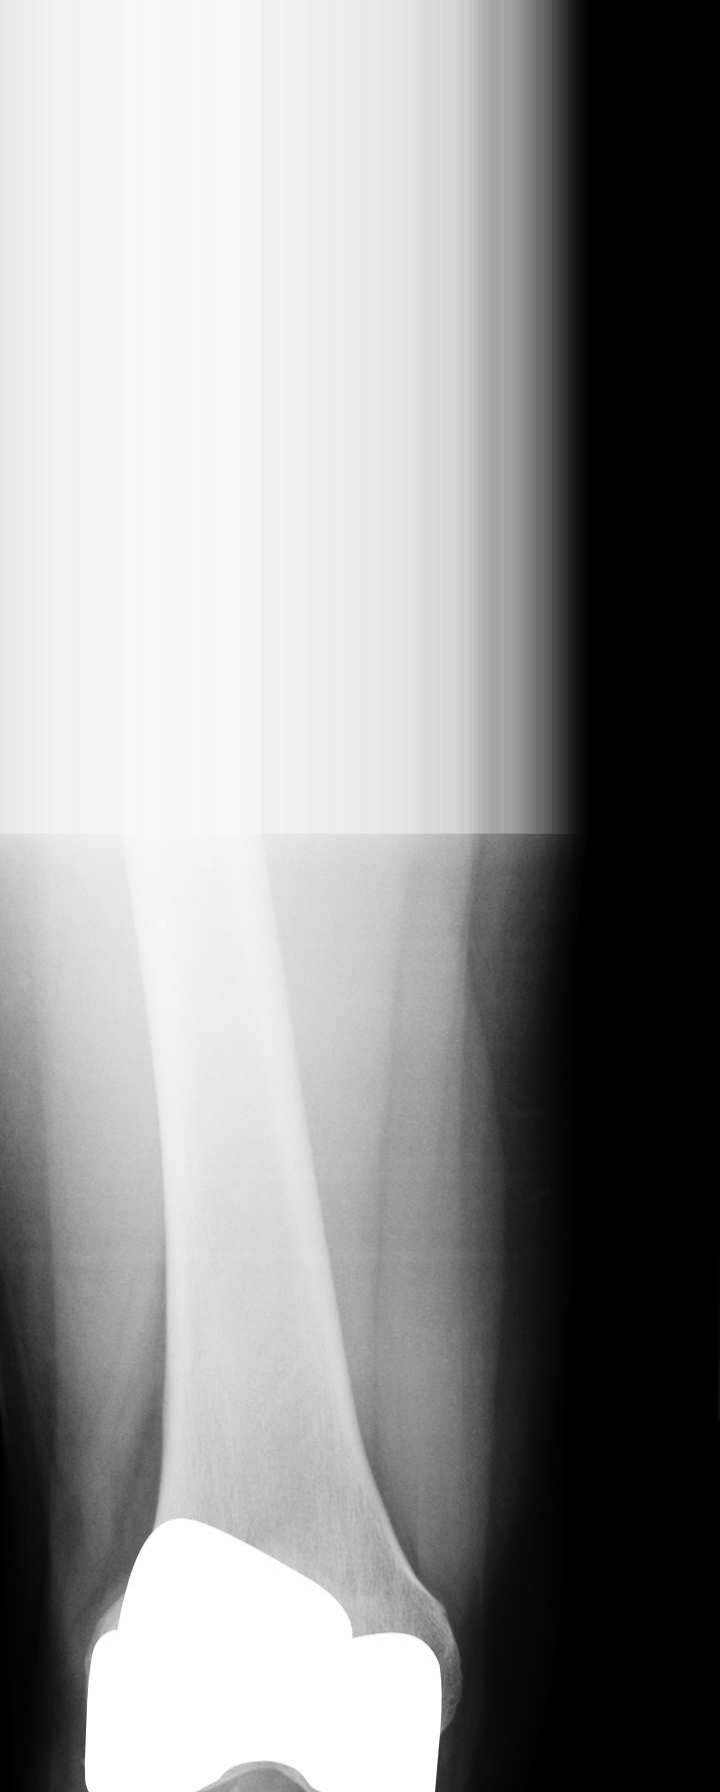Knee-Triathlon-Stryker: (57, 1518, 443, 1792)
